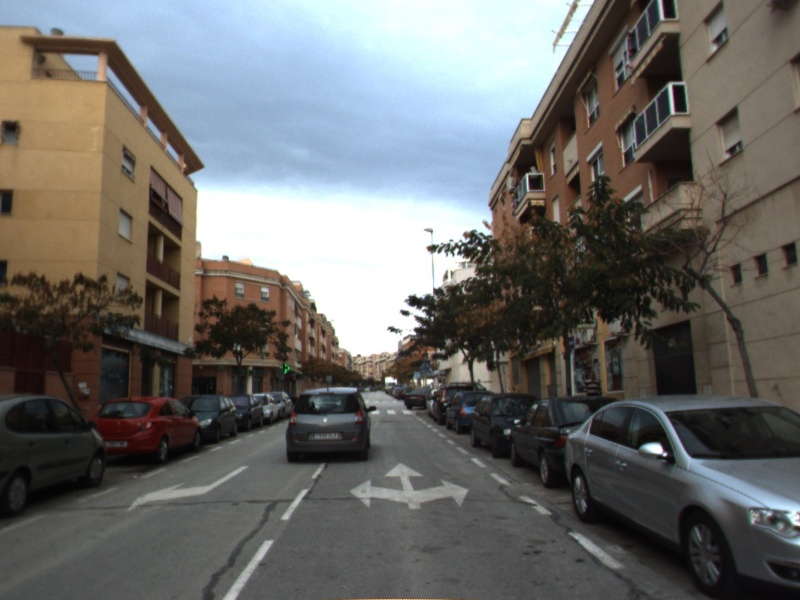STRAIGHT_LEFT_RIGHT: (347, 461, 471, 511)
